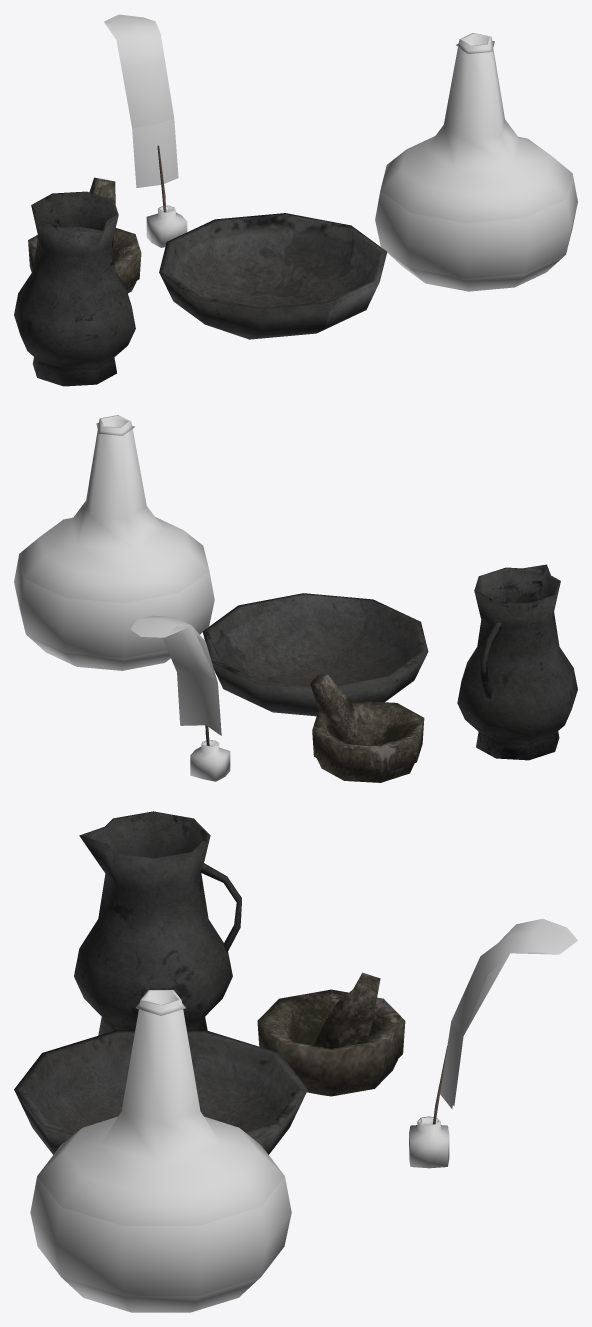
File: Stuffs_1.fbx
The picture shows the model from 3 angles, top to bottom: view 1: azimuth 30°, elevation 25°; view 2: azimuth 150°, elevation 25°; view 3: azimuth 270°, elevation 25°; orthographic projection. The views are drawn at different scales.
Parts seen in each view (by area): view 1: Cube.009, Cube.002, Cube.001, Cube.007, Cube.005, Cube.003, Cube.000, Cube.008, Cube.006; view 2: Cube.009, Cube.002, Cube.007, Cube.001, Cube.005, Cube.003, Cube.006, Cube.008, Cube.000, Cube.004; view 3: Cube.009, Cube.001, Cube.007, Cube.005, Cube.003, Cube.006, Cube.002, Cube.000, Cube.004, Cube.008.
Boxes of the visible parts, x1,y1,x2,y2 form: Cube.009: [380, 33, 572, 291]; Cube.002: [159, 247, 379, 339]; Cube.001: [375, 40, 577, 278]; Cube.007: [18, 207, 131, 386]; Cube.005: [159, 213, 387, 310]; Cube.003: [14, 191, 135, 369]; Cube.000: [104, 14, 187, 247]; Cube.008: [104, 22, 178, 212]; Cube.006: [28, 177, 141, 286]; Cube.009: [19, 415, 209, 670]; Cube.002: [212, 627, 427, 716]; Cube.007: [461, 583, 573, 760]; Cube.001: [14, 422, 214, 658]; Cube.005: [202, 593, 428, 688]; Cube.003: [457, 564, 577, 743]; Cube.006: [310, 674, 424, 773]; Cube.008: [162, 625, 221, 747]; Cube.000: [130, 615, 230, 781]; Cube.004: [317, 698, 414, 782]; Cube.009: [37, 990, 284, 1312]; Cube.001: [30, 1003, 291, 1296]; Cube.007: [79, 835, 241, 1035]; Cube.005: [14, 1030, 307, 1135]; Cube.003: [74, 811, 232, 1030]; Cube.006: [257, 972, 405, 1085]; Cube.002: [14, 1073, 307, 1154]; Cube.000: [409, 918, 577, 1168]; Cube.004: [301, 1003, 397, 1096]; Cube.008: [420, 952, 556, 1125].
Bounding box in the file's own units: 596 × 238 × 424.
